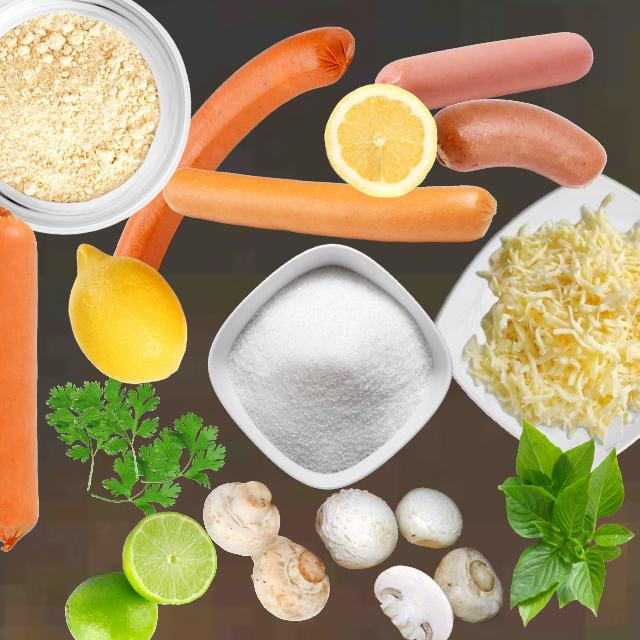Flour: (0, 11, 160, 202)
Sugar: (227, 264, 433, 474)
